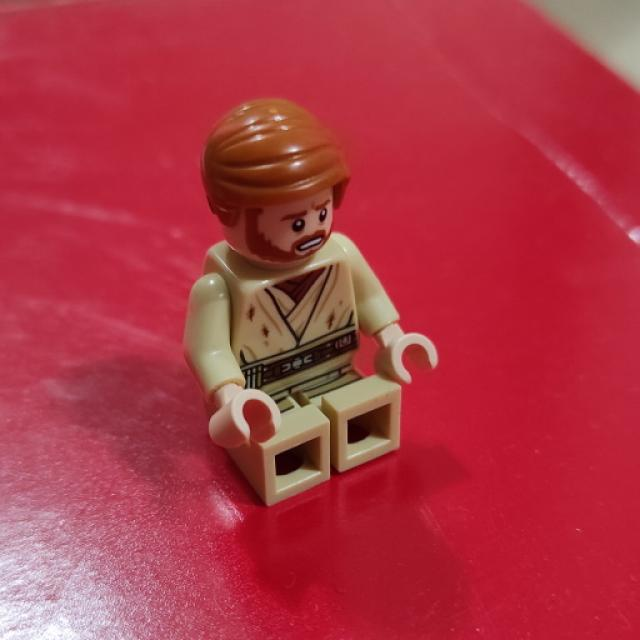Lego-Minifigures: (166, 79, 462, 530)
